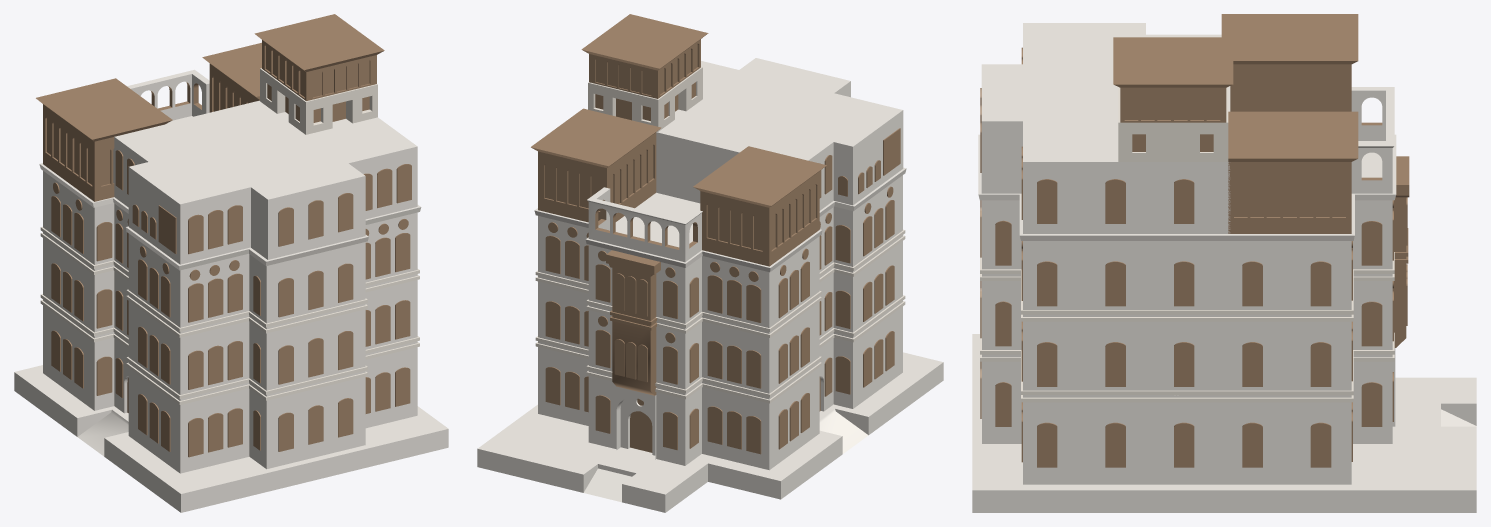
File: KSA-07-tex.glb
3 renders of one model, left to right at view 1: azimuth 30°, elevation 25°; view 2: azimuth 150°, elevation 25°; view 3: azimuth 270°, elevation 25°, orthographic. The views are drawn at different scales.
Visible parts, largest first — view 1: body, window_comb, Null, GR, Boole_1, Boole_3, window_comb_1, Boole_2, Boole; view 2: body, window_comb, Null, GR, Boole_3, Boole_1, Boole_2, window_comb_1, body_front_extrude, Boole, entrance; view 3: body, Null, GR, window_comb, Boole_2, Boole_1, Boole_3, window_comb_1, Boole, body_front_extrude.
Part boxes in pixels (x1=…): body: x1=43, y1=116, x2=417, y2=473; window_comb: x1=39, y1=150, x2=421, y2=457; Null: x1=113, y1=100, x2=417, y2=264; GR: x1=14, y1=365, x2=448, y2=512; Boole_1: x1=254, y1=14, x2=384, y2=134; Boole_3: x1=36, y1=78, x2=172, y2=201; window_comb_1: x1=40, y1=226, x2=419, y2=404; Boole_2: x1=202, y1=42, x2=261, y2=112; Boole: x1=127, y1=69, x2=209, y2=120; body: x1=538, y1=175, x2=902, y2=470; window_comb: x1=534, y1=155, x2=906, y2=454; Null: x1=656, y1=58, x2=903, y2=210; GR: x1=477, y1=352, x2=943, y2=512; Boole_3: x1=693, y1=146, x2=826, y2=266; Boole_1: x1=581, y1=14, x2=708, y2=131; Boole_2: x1=531, y1=108, x2=661, y2=222; window_comb_1: x1=535, y1=229, x2=905, y2=403; body_front_extrude: x1=606, y1=250, x2=660, y2=395; Boole: x1=587, y1=187, x2=702, y2=262; entrance: x1=630, y1=377, x2=820, y2=452; body: x1=982, y1=141, x2=1395, y2=484; Null: x1=981, y1=23, x2=1230, y2=233; GR: x1=972, y1=334, x2=1476, y2=512; window_comb: x1=978, y1=47, x2=1407, y2=467; Boole_2: x1=1228, y1=111, x2=1358, y2=233; Boole_1: x1=1113, y1=37, x2=1233, y2=161; Boole_3: x1=1221, y1=14, x2=1358, y2=111; window_comb_1: x1=980, y1=211, x2=1394, y2=402; Boole: x1=1351, y1=87, x2=1394, y2=193; body_front_extrude: x1=1392, y1=156, x2=1409, y2=347.
Bounding box in the file's own units: 27.05 × 34.3 × 36.86.
